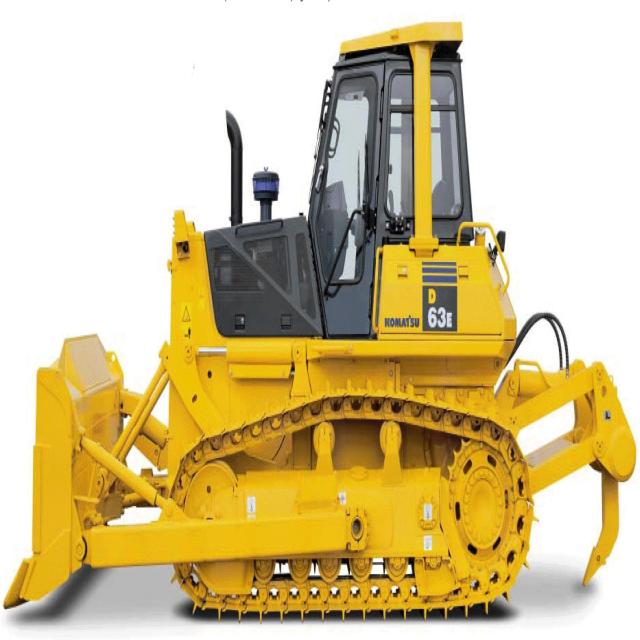Bulldozer: (5, 11, 640, 640)
